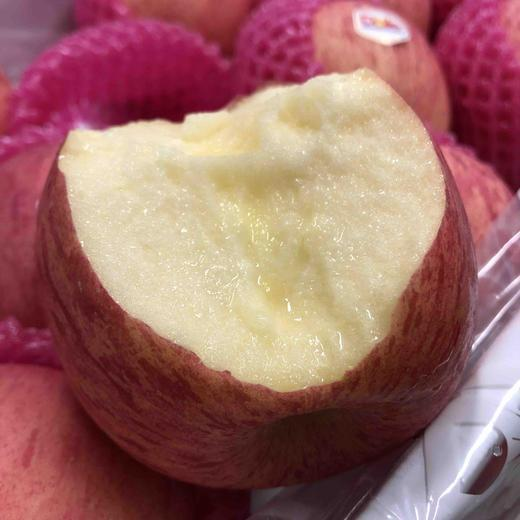apple: (34, 67, 477, 486), (237, 1, 456, 140)
